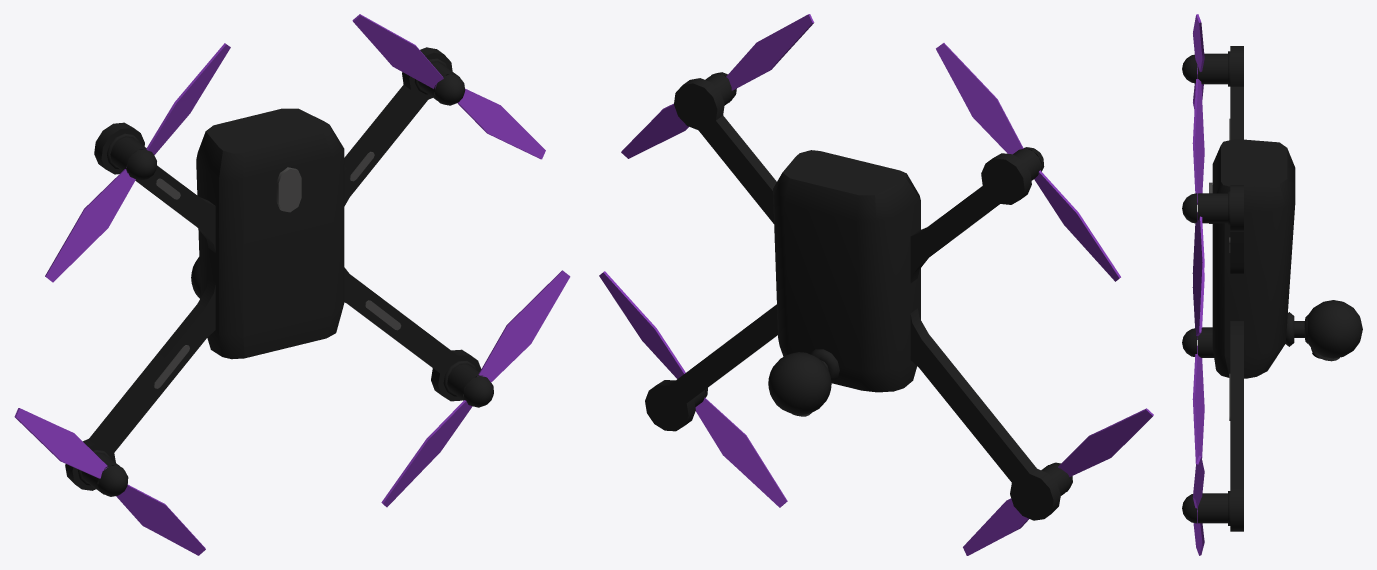
File: noYUp.glb
3 renders of one model, left to right at view 1: azimuth 30°, elevation 25°; view 2: azimuth 150°, elevation 25°; view 3: azimuth 270°, elevation 25°, orthographic. The views are drawn at different scales.
Visible parts, largest first — view 1: droneBody, p3, p2, p4, p1; view 2: droneBody, p3, p2, p4, p1, droneCamera; view 3: droneBody, droneCamera, p1, p4, p2, p3.
Boxes of the visible parts, x1,y1,x2,y2 form: droneBody: (65, 47, 482, 494); p3: (45, 43, 230, 282); p2: (381, 270, 570, 507); p4: (14, 408, 205, 555); p1: (352, 14, 545, 159); droneBody: (645, 73, 1070, 520); p3: (936, 43, 1120, 281); p2: (599, 271, 787, 507); p4: (963, 408, 1153, 555); p1: (621, 14, 814, 158); droneCamera: (768, 352, 831, 416); droneBody: (1198, 46, 1307, 531); droneCamera: (1308, 300, 1362, 361); p1: (1182, 79, 1204, 335); p4: (1182, 273, 1204, 463); p2: (1182, 455, 1204, 555); p3: (1182, 14, 1204, 109).
Size of the model in its own units: 2.88 by 2.51 by 0.876.
